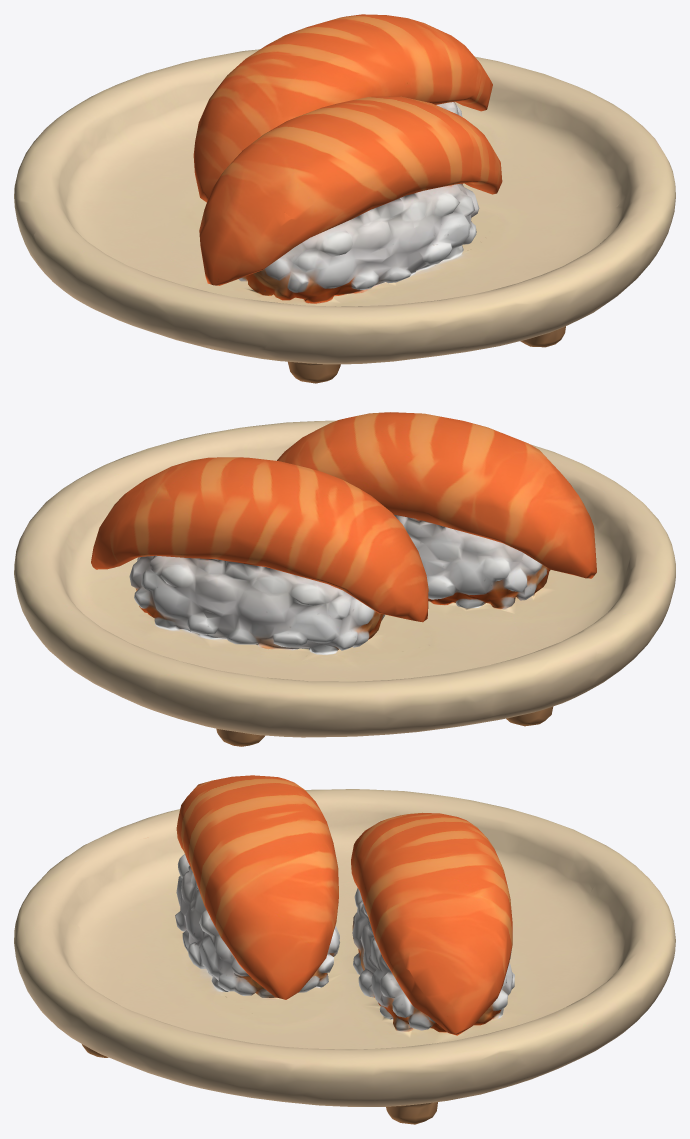
The model's file is kitchen-sushi-salmon-v1.glb.
3 renders of one model, top to bottom at view 1: azimuth 30°, elevation 25°; view 2: azimuth 150°, elevation 25°; view 3: azimuth 270°, elevation 25°, orthographic.
Parts seen in each view (by area): view 1: tripo_node_1d20de6d-080b-4a03-8b76-3ad90ca5984f; view 2: tripo_node_1d20de6d-080b-4a03-8b76-3ad90ca5984f; view 3: tripo_node_1d20de6d-080b-4a03-8b76-3ad90ca5984f.
Part boxes in pixels (x1,y1,x2,y2): tripo_node_1d20de6d-080b-4a03-8b76-3ad90ca5984f: (14, 14, 675, 383); tripo_node_1d20de6d-080b-4a03-8b76-3ad90ca5984f: (14, 412, 675, 746); tripo_node_1d20de6d-080b-4a03-8b76-3ad90ca5984f: (14, 775, 675, 1124).
Bounding box in the file's own units: 0.9996 × 0.3308 × 1.
1 material, 1 textured.
